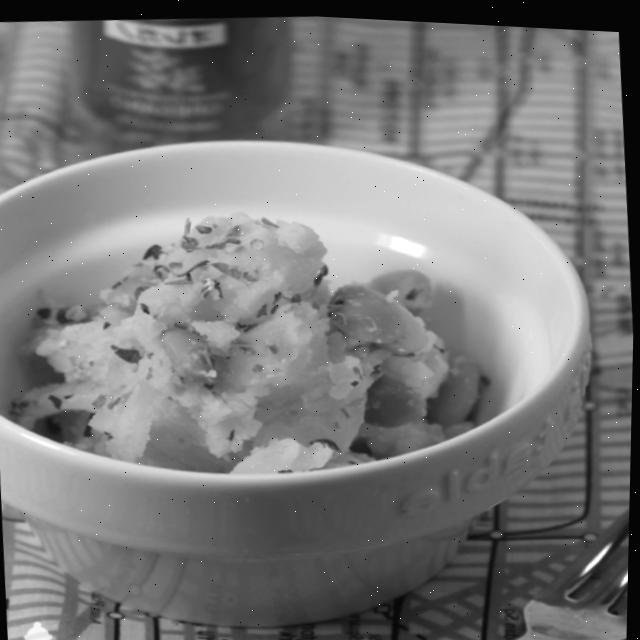蔬菜料理: (0, 47, 591, 434)
